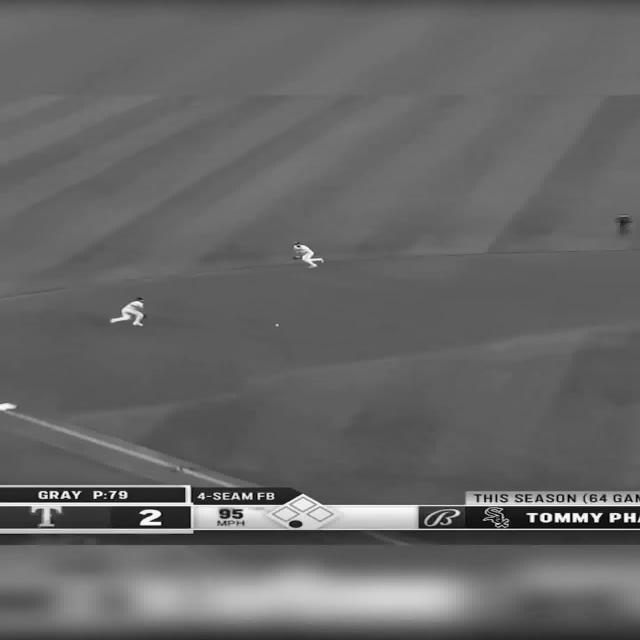base: (0, 402, 18, 411)
baseball: (273, 324, 280, 326)
